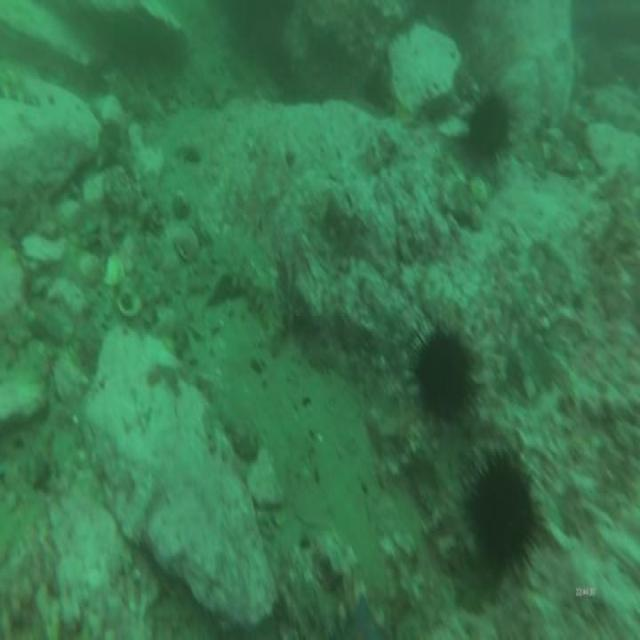echinus: (410, 312, 484, 439), (464, 449, 540, 572), (463, 79, 514, 168)
holothurian: (220, 223, 288, 355)
starfish: (336, 581, 389, 640)
